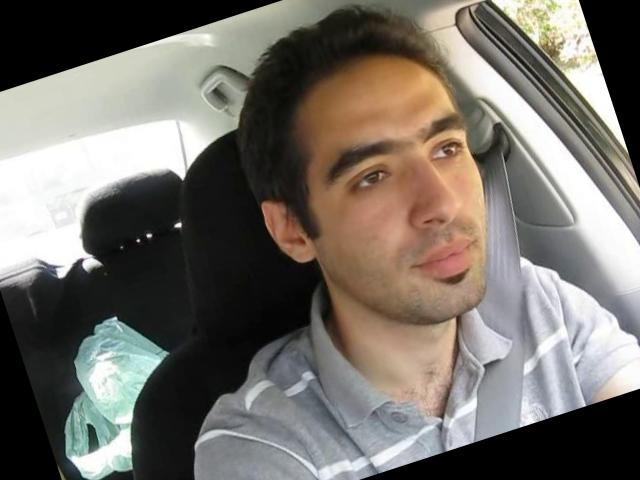eye_open: (340, 157, 400, 201), (425, 132, 469, 168)
face: (304, 87, 528, 347)
